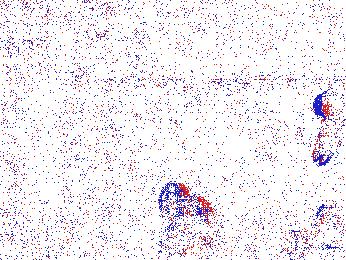flame jellyfish: (311, 85, 346, 165), (283, 204, 346, 248), (157, 181, 214, 226)
